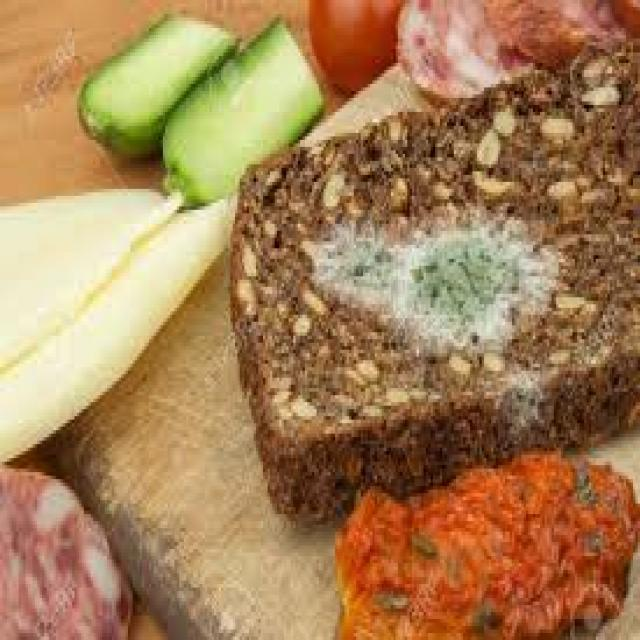organic waste: (225, 35, 638, 525), (0, 196, 247, 465), (330, 444, 638, 637), (0, 185, 179, 364), (158, 14, 324, 199), (0, 458, 130, 636), (77, 10, 237, 154), (393, 0, 535, 101), (479, 0, 623, 66), (307, 0, 398, 91), (600, 0, 637, 38)
